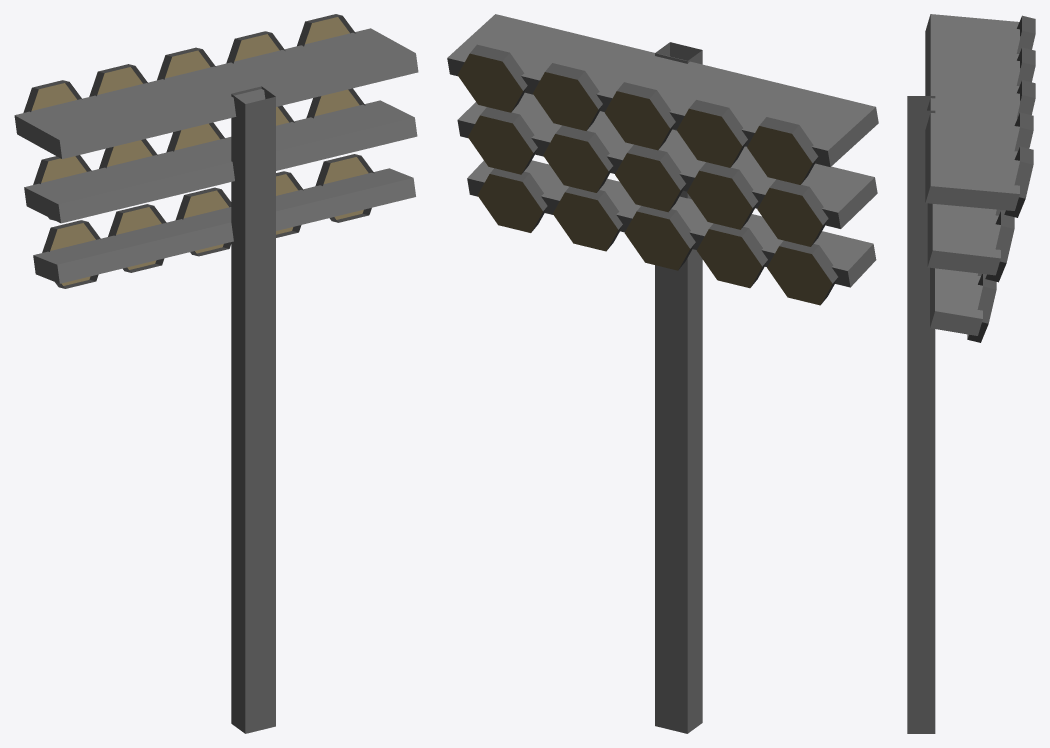
Rendered from lamp_projector_01.fbx.
3 renders of one model, left to right at view 1: azimuth 30°, elevation 25°; view 2: azimuth 150°, elevation 25°; view 3: azimuth 270°, elevation 25°, orthographic. The views are drawn at different scales.
Visible parts, largest first — view 1: lamp_projector_01; view 2: lamp_projector_01; view 3: lamp_projector_01.
Boxes of the visible parts, box(x1,y1,x2,y2) form: lamp_projector_01: box(14, 14, 418, 733); lamp_projector_01: box(447, 14, 878, 733); lamp_projector_01: box(907, 14, 1035, 733).
Bounding box in the file's own units: 576 × 986 × 182.
